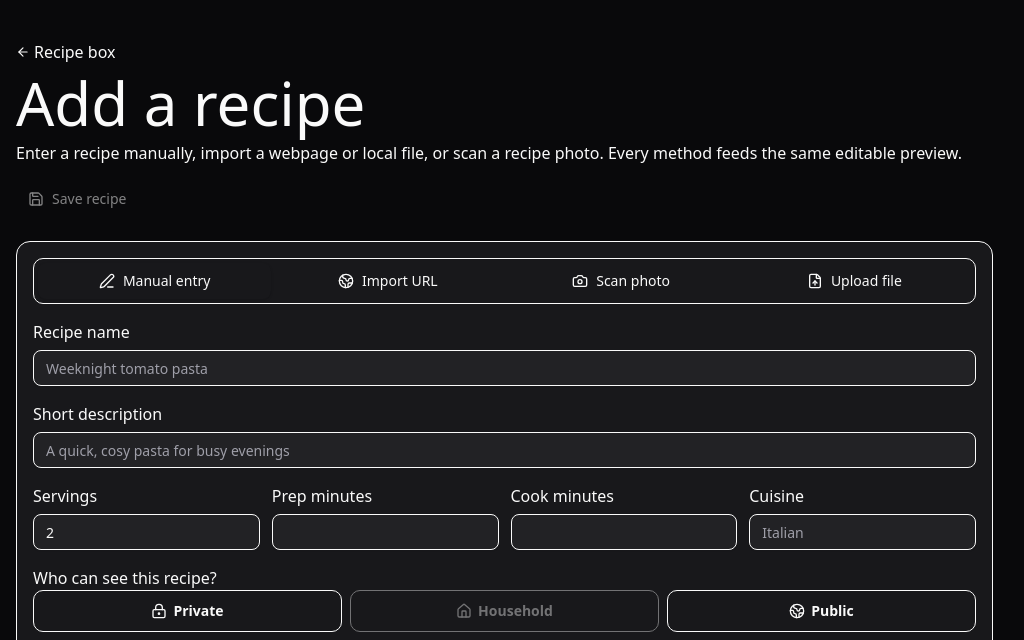
Test: AddRecipeView visibility › rejects a URL import missing a required recipe field
The width and height of the screenshot is (1024, 640).
Click the button "Import URL" at coordinates (388, 281), box [271, 263, 505, 299]
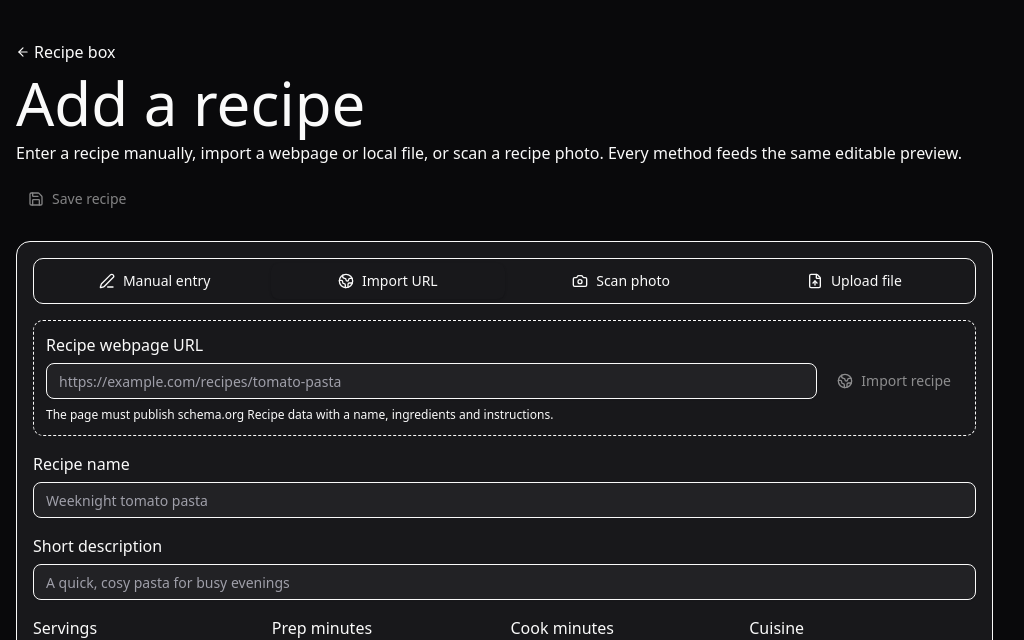
Type "https://example.test/tomato-pasta" into the field labelled "Recipe webpage URL" at coordinates (432, 381), box [46, 363, 817, 399]
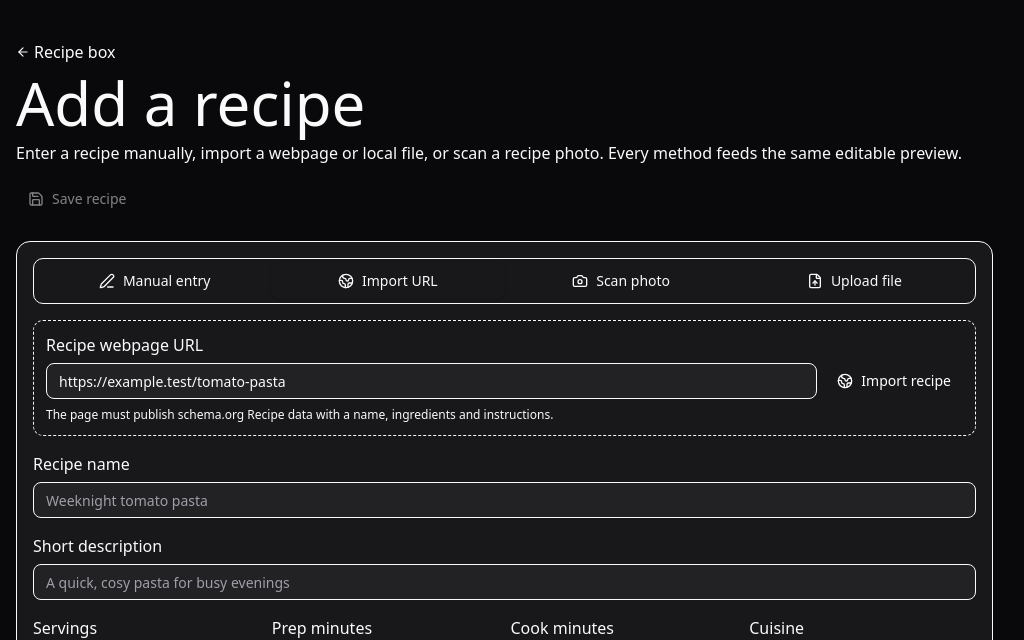
Click the button "Import recipe" at coordinates (894, 381), box [825, 363, 963, 399]
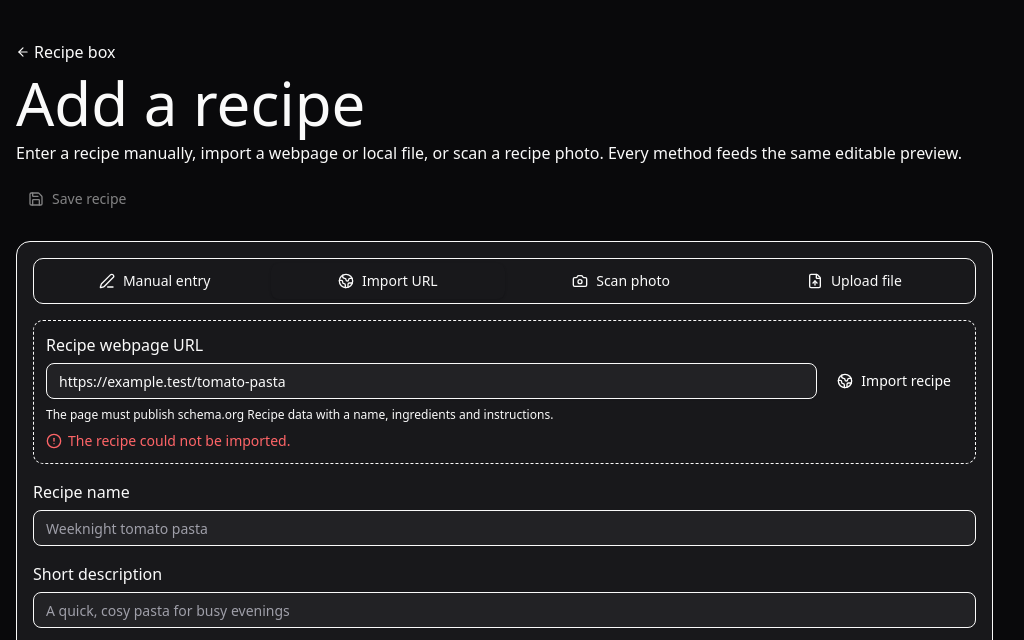
Check: the field labelled "Recipe name" is empty, box [33, 510, 976, 546]
Check: the text "The recipe could not be imported." is shown, box [46, 431, 290, 450]
